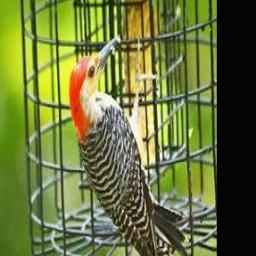Woodpecker: (69, 34, 186, 256)
